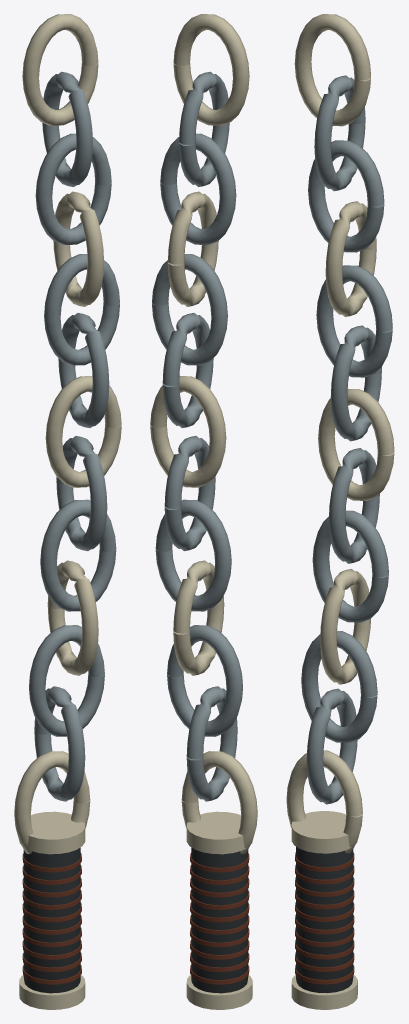
The model's file is chain_lod0.glb.
3 renders of one model, left to right at view 1: azimuth 30°, elevation 25°; view 2: azimuth 150°, elevation 25°; view 3: azimuth 330°, elevation 25°, orthographic.
Parts seen in each view (by area): view 1: chain; view 2: chain; view 3: chain.
Part boxes in pixels (x1,y1,x2,y2): chain: (14,14,121,1009); chain: (150,14,257,1009); chain: (286,14,394,1009).
Bounding box in the file's own units: 0.1067 × 0.9435 × 0.075.
